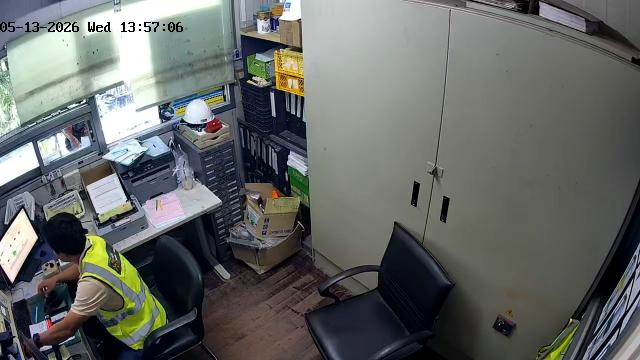Head: (45, 213, 86, 263)
People: (31, 213, 166, 359)
Phone: (43, 296, 68, 316)
